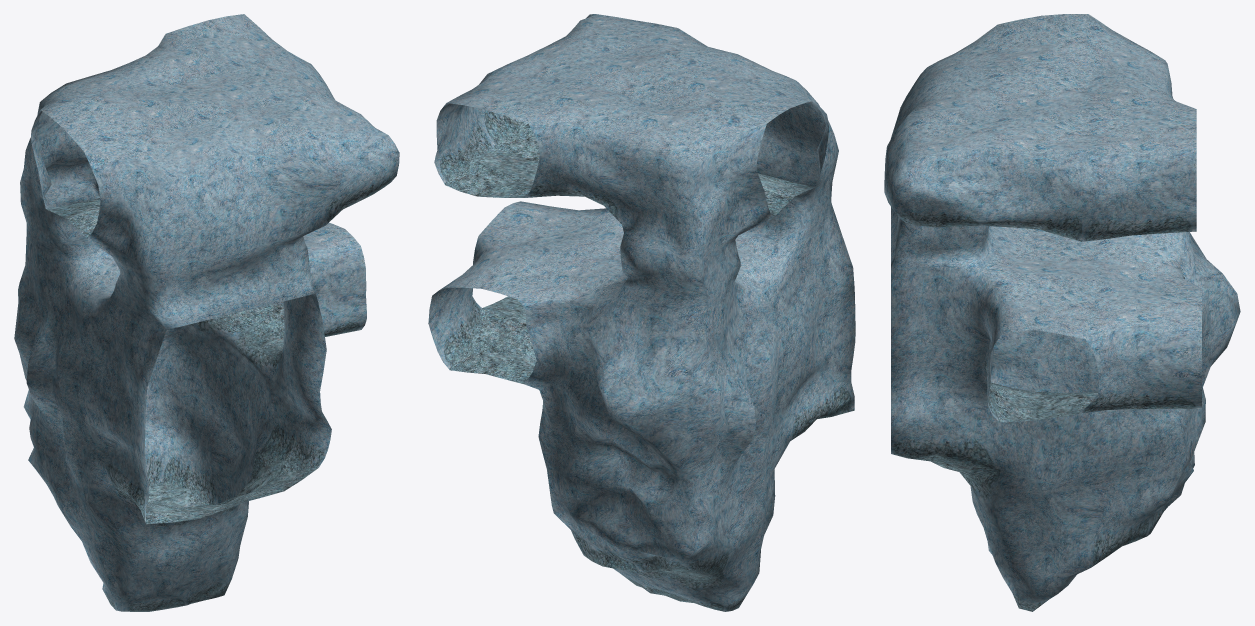
File: thm_all_cave_s02_ice_r5_mesh_r5.fbx
3 views of the same model, side by side, from view 1: azimuth 30°, elevation 25°; view 2: azimuth 150°, elevation 25°; view 3: azimuth 270°, elevation 25° (orthographic). The views are drawn at different scales.
Parts seen in each view (by area): view 1: mesh_node; view 2: mesh_node; view 3: mesh_node.
Boxes of the visible parts, x1,y1,x2,y2 form: mesh_node: (14, 14, 399, 611); mesh_node: (428, 14, 855, 611); mesh_node: (884, 14, 1240, 611).
Size of the model in its own units: 34.53 by 59.24 by 36.4.
